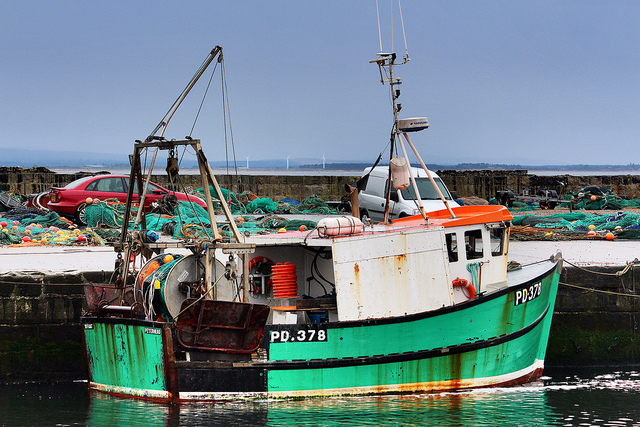fishing_boat: (76, 42, 565, 407)
